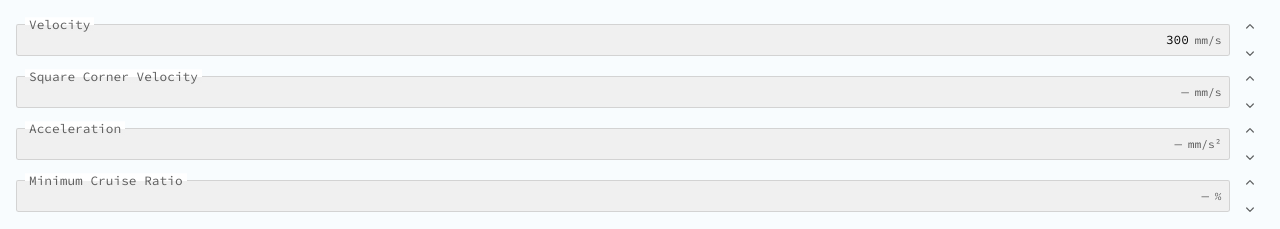
Test: MachineModule › nudges velocity by its step through the paired up/down buttons
The image size is (1280, 229).
Step 1. Click the button named "Increase Velocity" → coordinates (1250, 26), box top-left (1236, 12), bottom-right (1264, 40)
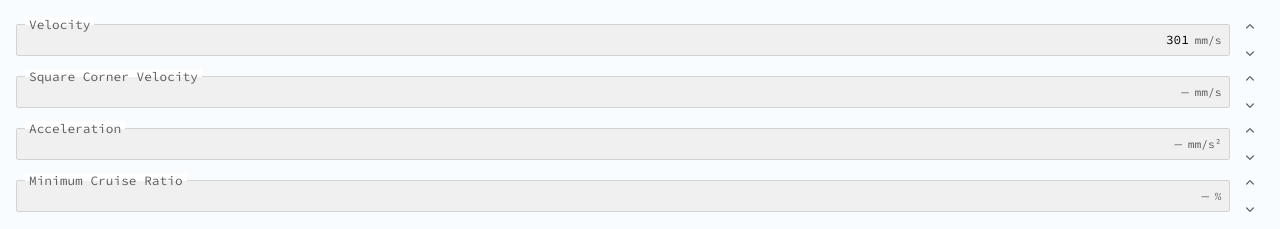
Check: the number field with class "app-field__input" holds "301", box top-left (25, 30), bottom-right (1189, 50)
Step 2. Click the button named "Decrease Velocity" → coordinates (1250, 54), box top-left (1236, 40), bottom-right (1264, 68)
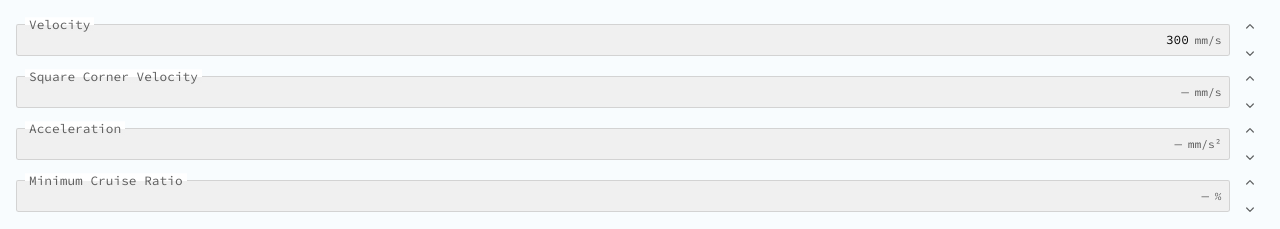
Step 3. Click the button named "Decrease Velocity" → coordinates (1250, 54), box top-left (1236, 40), bottom-right (1264, 68)
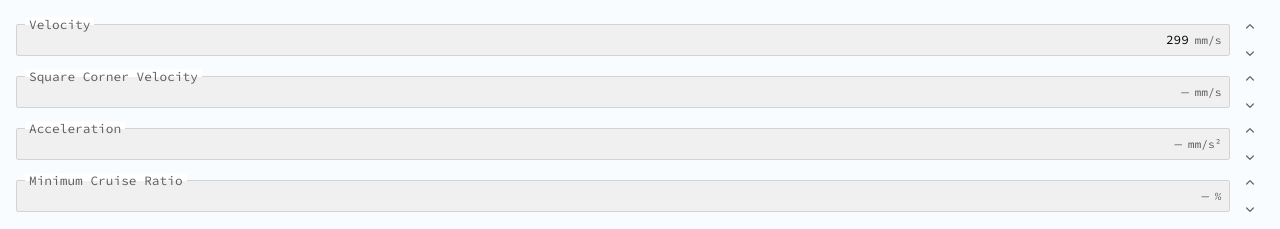
Check: the number field with class "app-field__input" holds "299", box top-left (25, 30), bottom-right (1189, 50)
